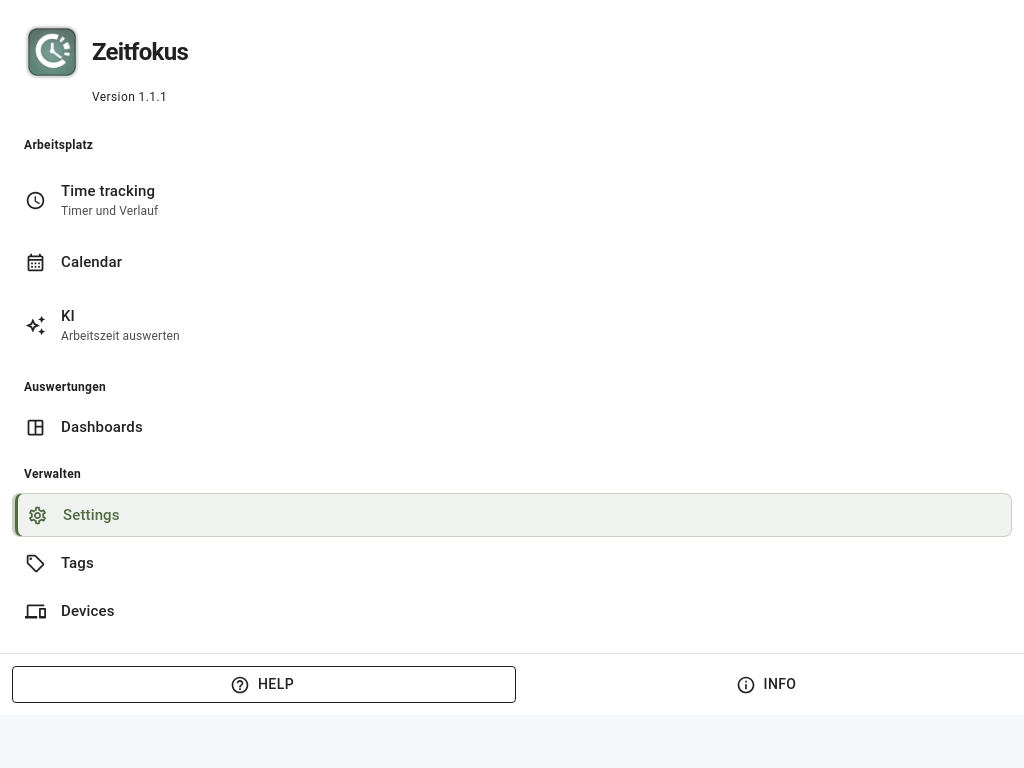
Test: one help button opens the current topic and navigation shows explanatory hover tooltips
Hover over the link to "/user/settings" at {"x": 91, "y": 515}, box [12,493,1012,537]
Wait 500 ms
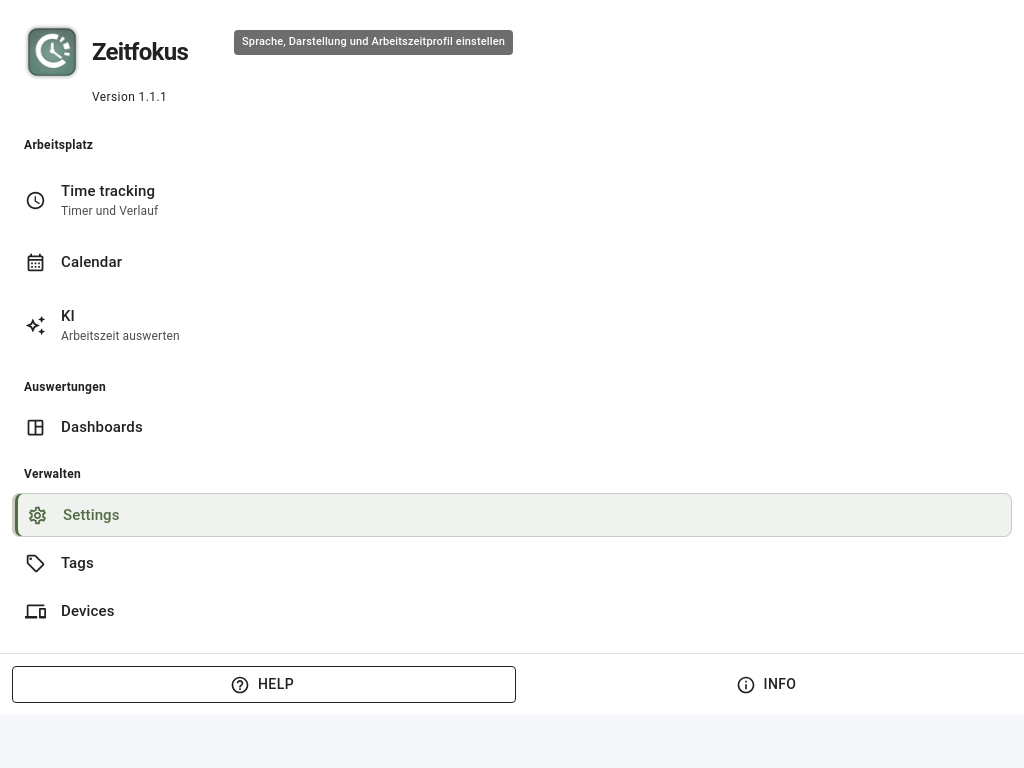
Check: the tooltip "Sprache, Darstellung und Arbeitszeitprofil einstellen" is shown, box [220,28,515,56]
